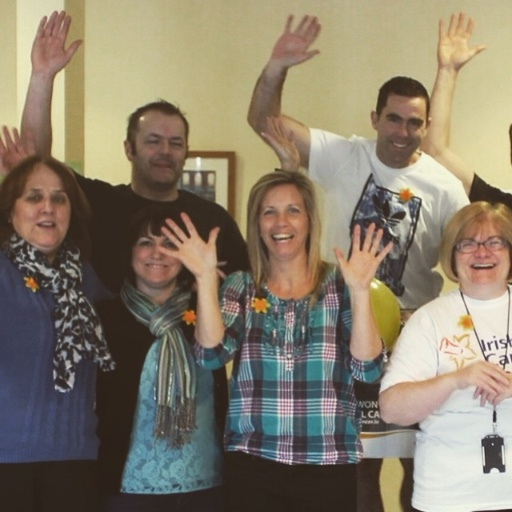hand: (153, 209, 220, 281), (263, 9, 328, 78), (332, 220, 395, 291), (28, 4, 84, 78), (437, 9, 488, 73), (259, 114, 302, 165), (460, 357, 511, 398), (0, 122, 39, 172), (471, 371, 511, 408)
